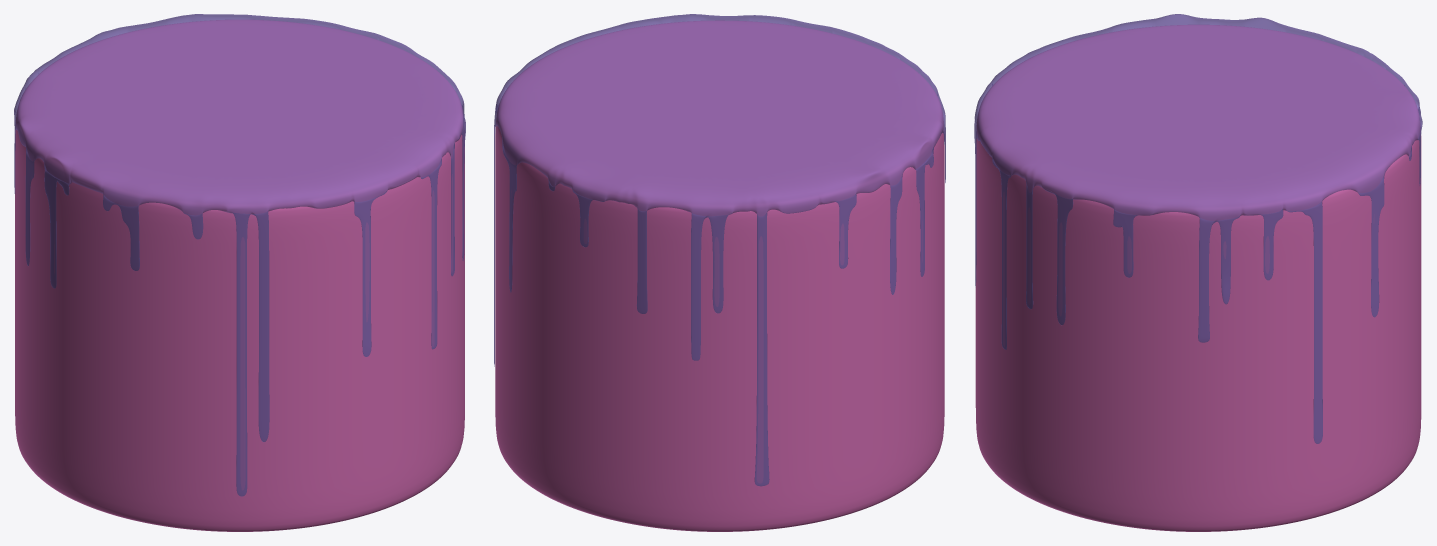
The model's file is Cake_Layer_1_Pink_PurpleDrip.glb.
3 views of the same model, side by side, from view 1: azimuth 30°, elevation 25°; view 2: azimuth 150°, elevation 25°; view 3: azimuth 270°, elevation 25° (orthographic).
Visible parts, largest first — view 1: Circle, Circle.001; view 2: Circle, Circle.001; view 3: Circle, Circle.001.
Boxes of the visible parts, x1,y1,x2,y2 form: Circle: [15, 20, 464, 531]; Circle.001: [14, 14, 465, 496]; Circle: [495, 20, 944, 531]; Circle.001: [494, 14, 945, 486]; Circle: [975, 25, 1421, 531]; Circle.001: [974, 14, 1422, 443].
Size of the model in its own units: 0.1501 by 0.1237 by 0.1499.
